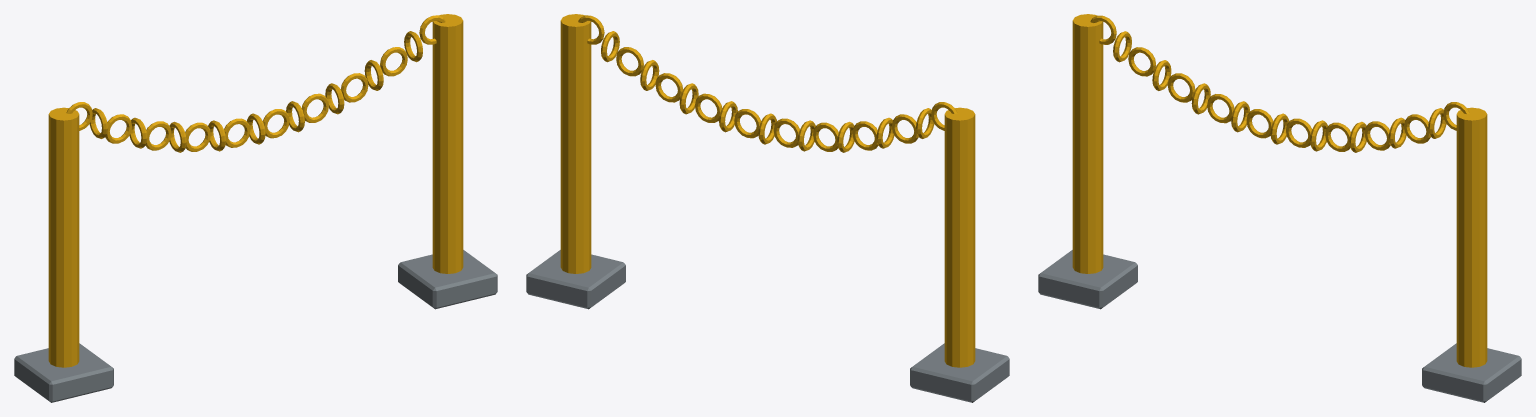
Rendered from ChainBarrier.fbx.
The picture shows the model from 3 angles, left to right: view 1: azimuth 30°, elevation 25°; view 2: azimuth 150°, elevation 25°; view 3: azimuth 330°, elevation 25°; orthographic projection.
Parts seen in each view (by area): view 1: ChainBarrier; view 2: ChainBarrier; view 3: ChainBarrier.
Boxes of the visible parts, x1,y1,x2,y2 form: ChainBarrier: [14, 14, 497, 402]; ChainBarrier: [526, 14, 1009, 402]; ChainBarrier: [1038, 14, 1521, 402].
Size of the model in its own units: 152 by 89.74 by 22.
1 material, 1 textured.
